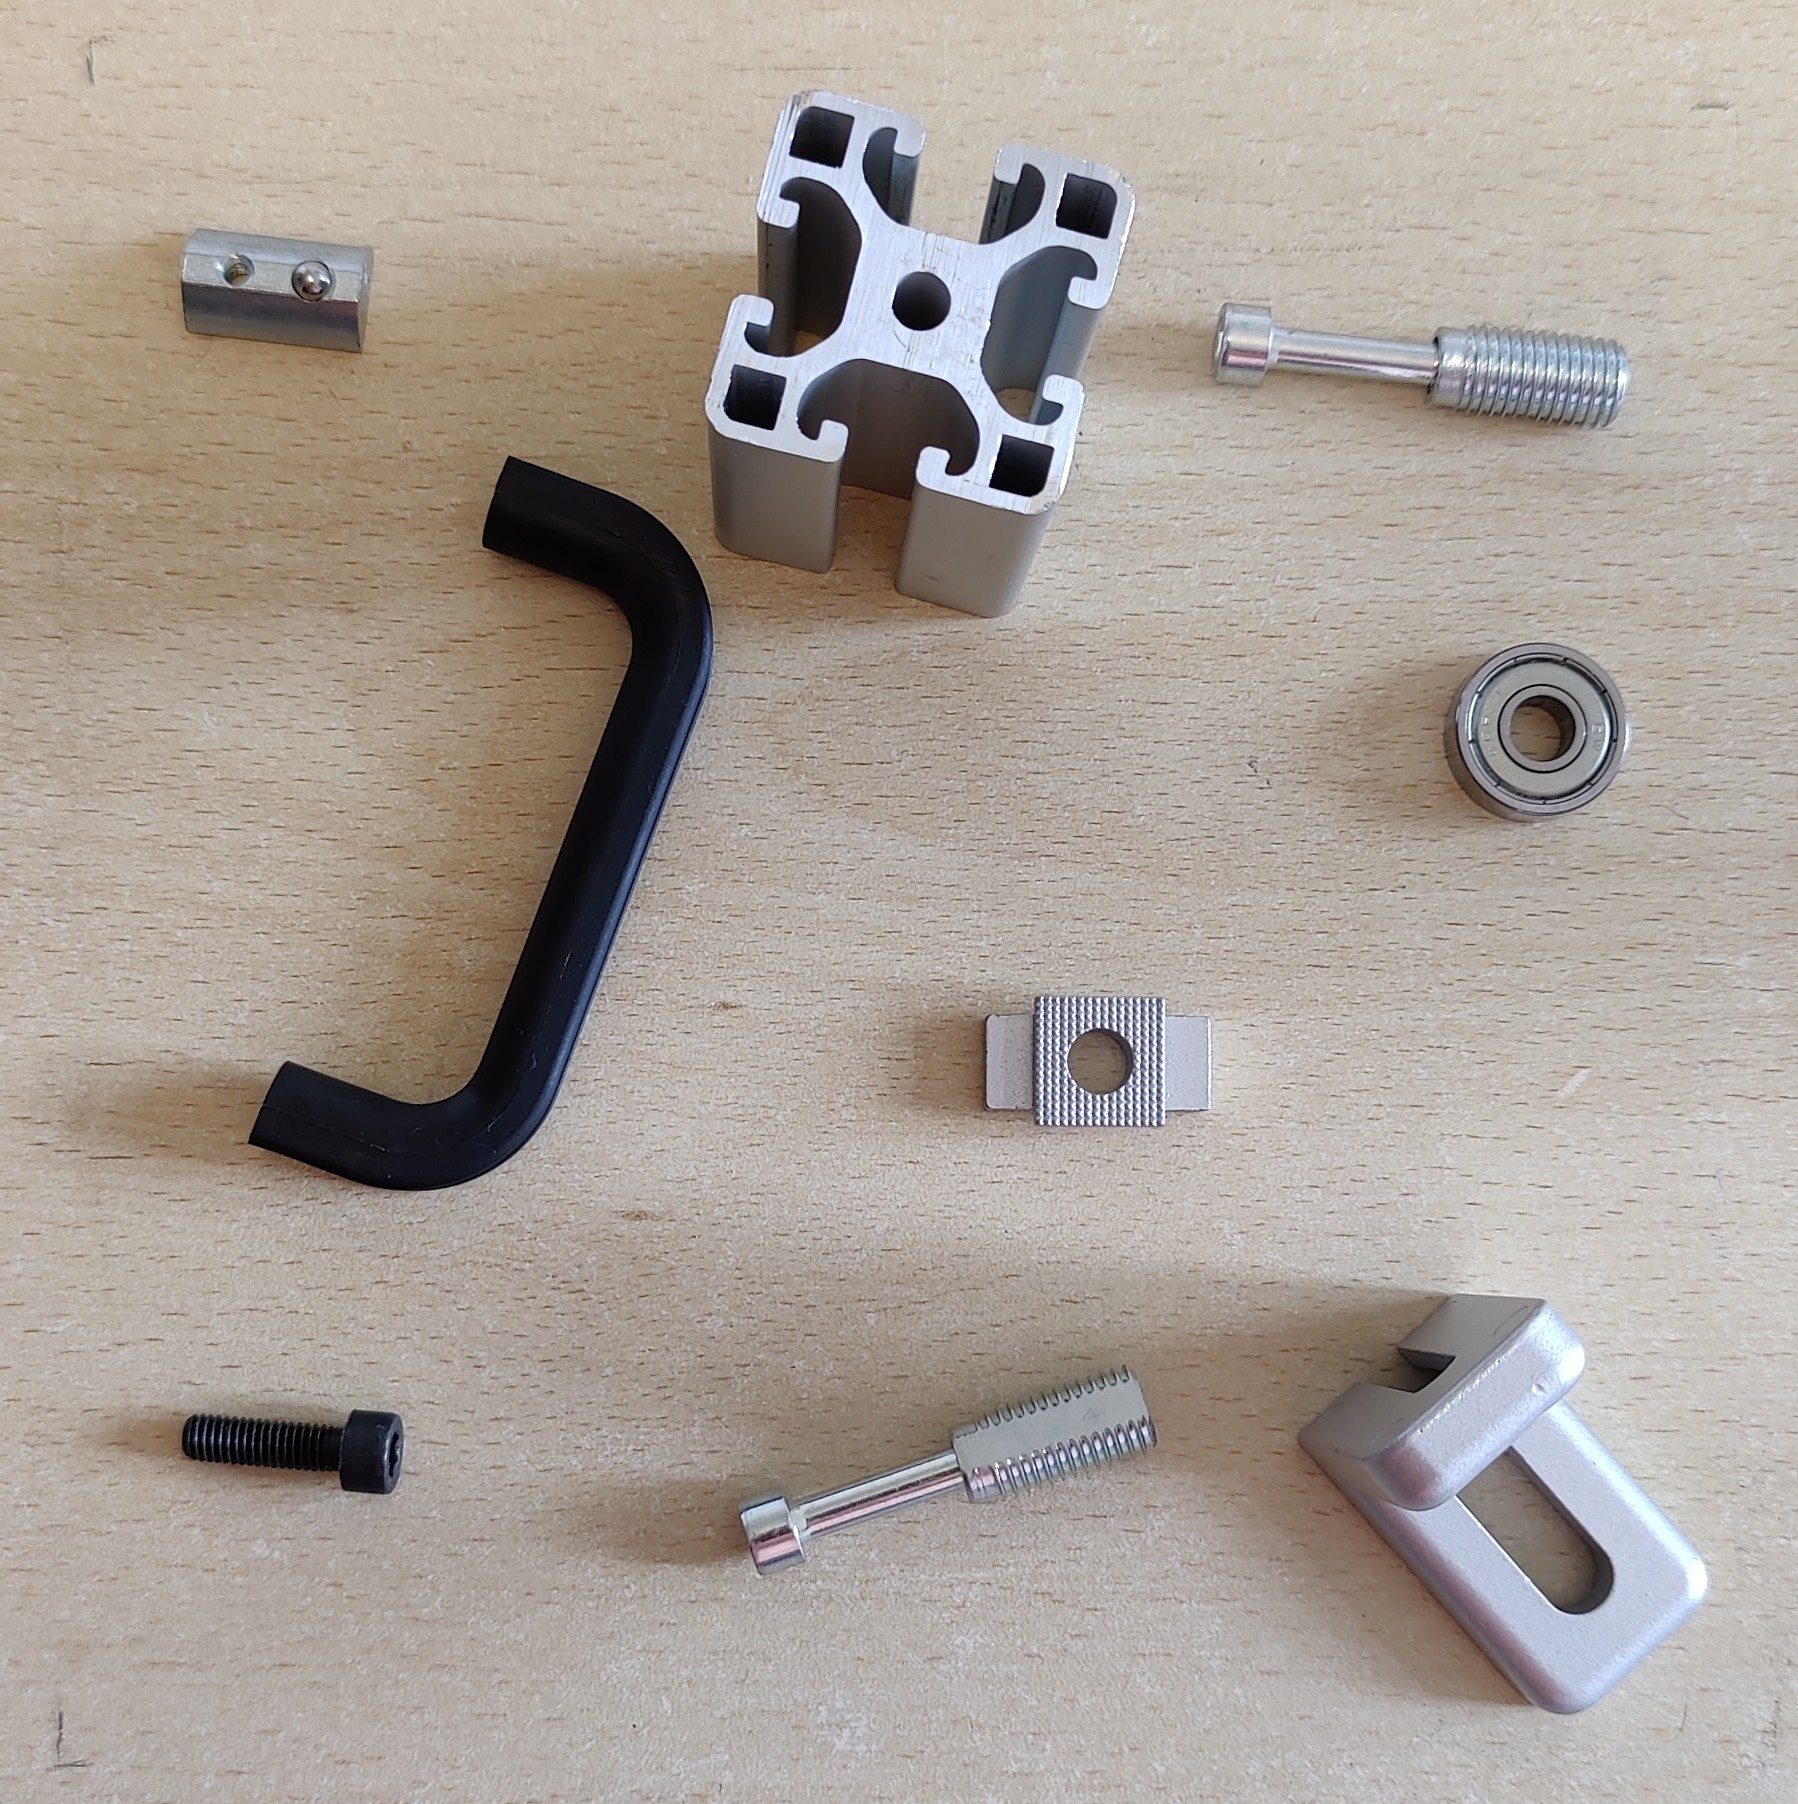Aluminium Extension: (700, 87, 1136, 621)
Ball Bearing: (1439, 640, 1632, 826)
Multiwinkel: (1296, 1290, 1711, 1718)
Pull Handle: (247, 451, 715, 1193)
Shoulder Socket Head Cap Screw: (738, 1360, 1162, 1578), (1207, 300, 1632, 435)
Socket Head Cap Screw: (176, 1402, 407, 1496)
T Nut Square: (976, 989, 1215, 1131)
T Spring Nut: (176, 225, 377, 356)
